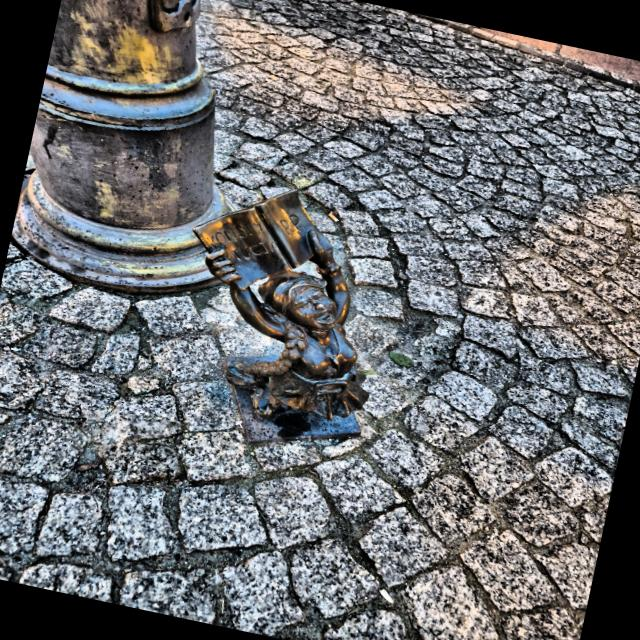Demokracja: (194, 190, 367, 443)
